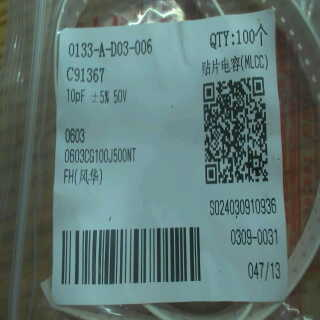10pF: (62, 84, 88, 107)
